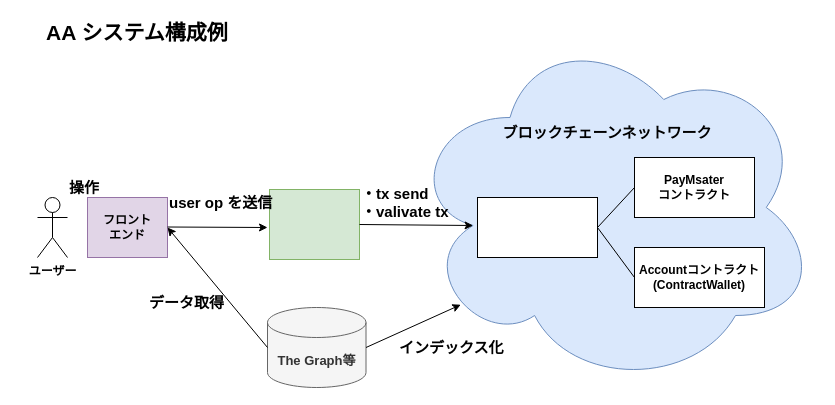
This 835x405 diagram has some shape labels left out. The centre of each missing label's shape, as x and y in pixels:
API サーバー (bundler): [314,224]
エントリーポイント コントラクト: [537,227]
